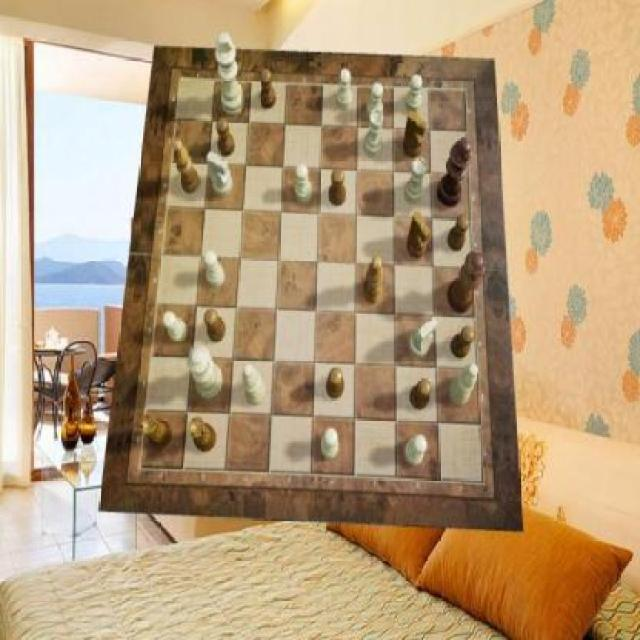bishop: (172, 139, 200, 193), (362, 257, 382, 305)
black-bishop: (437, 137, 472, 206)
black-king: (403, 112, 428, 160), (408, 212, 430, 260)
black-knight: (451, 326, 475, 359), (448, 216, 470, 252), (409, 378, 432, 411), (205, 309, 227, 343), (216, 118, 234, 157), (260, 69, 277, 109), (329, 169, 346, 207), (326, 368, 344, 400)
black-pawn: (448, 251, 485, 313)
black-queen: (140, 414, 173, 450), (189, 417, 217, 453)
black-rook: (451, 363, 478, 405), (242, 363, 266, 405)
white-bishop: (216, 34, 244, 118)
white-king: (208, 151, 234, 196), (409, 317, 437, 357)
white-knight: (204, 249, 226, 287), (163, 311, 188, 343), (404, 436, 428, 466), (337, 69, 354, 111), (405, 75, 422, 114), (366, 83, 383, 121), (296, 165, 312, 202), (322, 428, 339, 460)
white-pawn: (188, 345, 223, 399)
white-queen: (404, 157, 428, 203), (364, 110, 384, 158)
